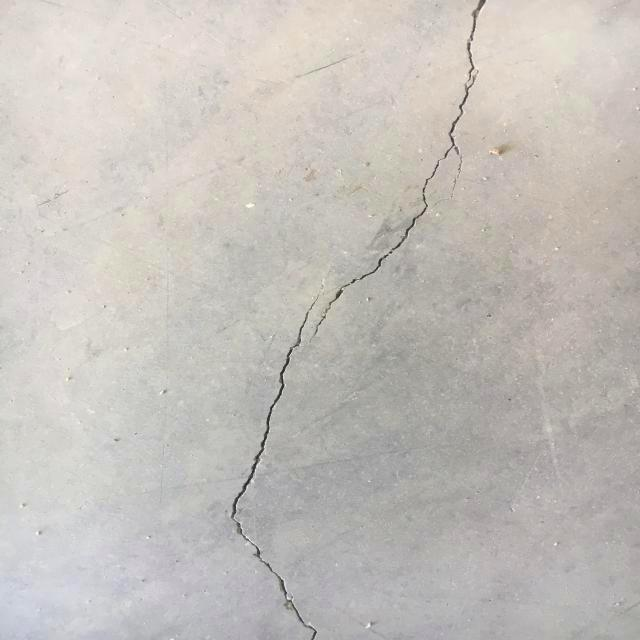SurfaceCrack: (205, 0, 519, 639)
